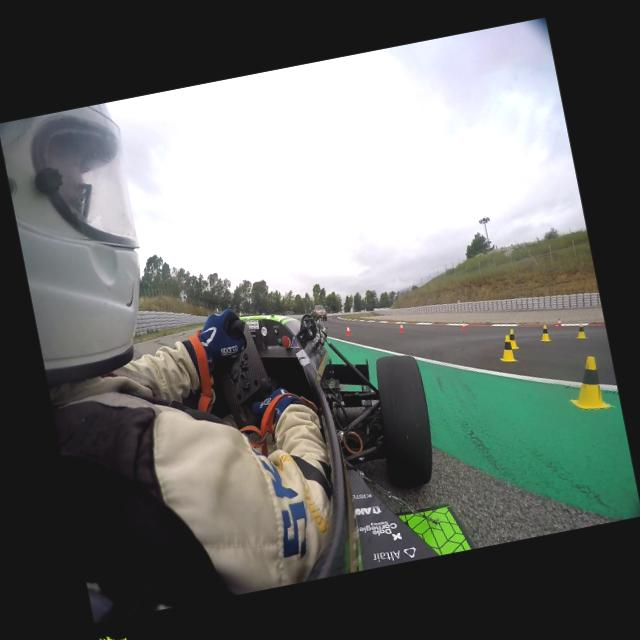orange_cone: (344, 324, 352, 338), (398, 324, 404, 334), (556, 318, 562, 328), (461, 321, 466, 332)
yellow_cone: (562, 353, 612, 414), (495, 334, 519, 365), (573, 322, 589, 341), (538, 324, 552, 344), (508, 328, 520, 350)
